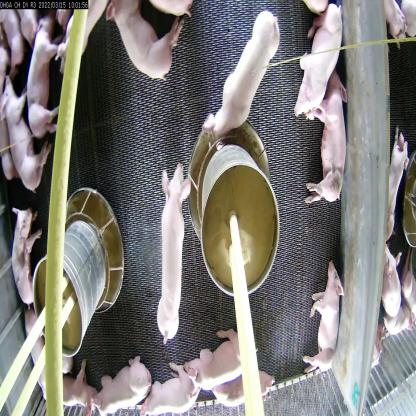Pig: (205, 7, 279, 145), (101, 0, 184, 86), (0, 74, 54, 192), (156, 166, 191, 340), (291, 7, 340, 116), (308, 75, 345, 208), (186, 317, 250, 392), (304, 258, 340, 375), (27, 21, 61, 144), (41, 365, 107, 415), (3, 192, 32, 301), (102, 360, 152, 415), (145, 368, 200, 415), (218, 368, 270, 415)
